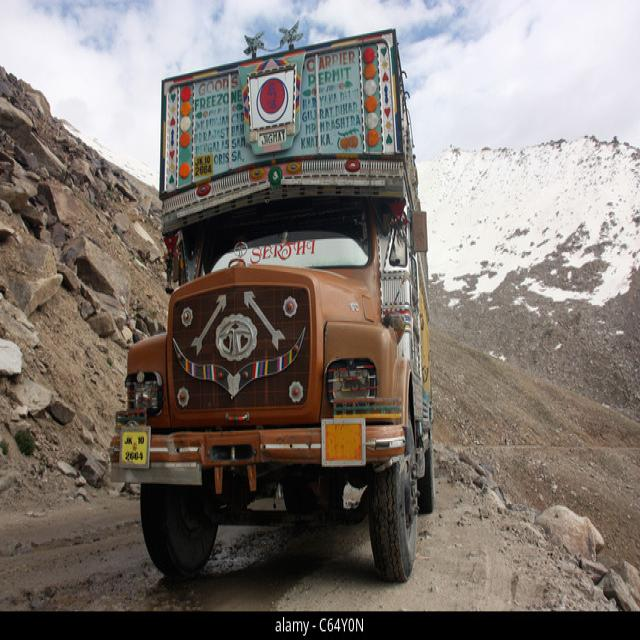truck: (109, 30, 433, 584)
